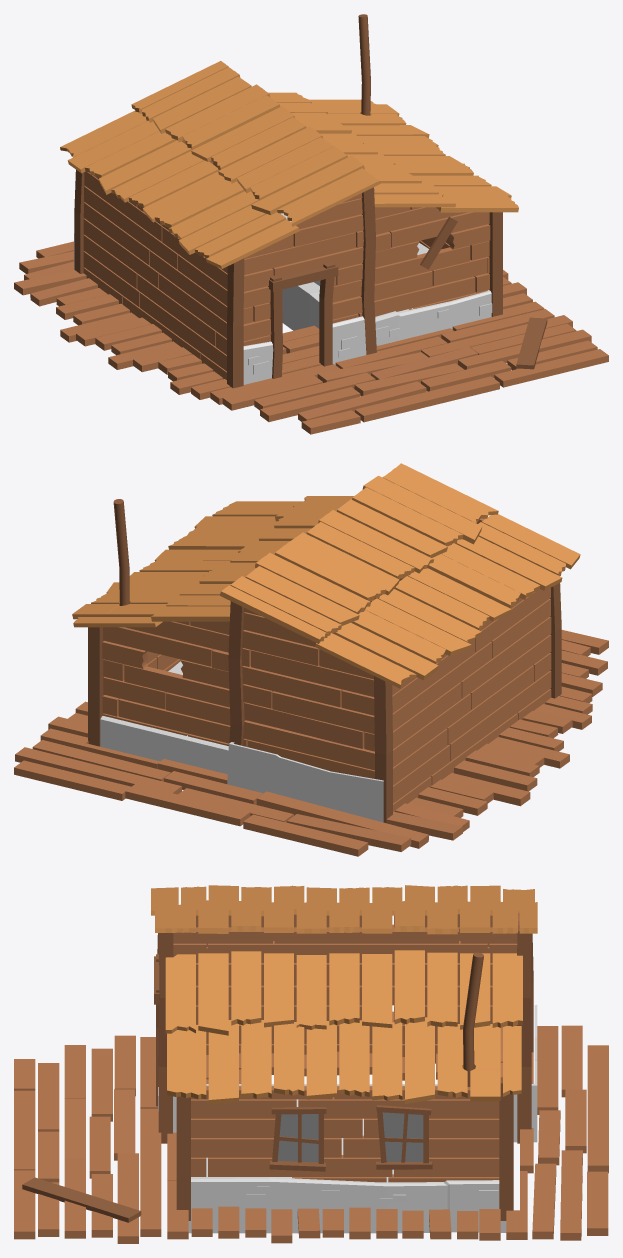
Rendered from House.fbx.
3 renders of one model, top to bottom at view 1: azimuth 30°, elevation 25°; view 2: azimuth 150°, elevation 25°; view 3: azimuth 270°, elevation 25°, orthographic. The views are drawn at different scales.
Parts seen in each view (by area): view 1: House; view 2: House; view 3: House.
Boxes of the visible parts, box(x1,y1,x2,y2) form: House: box(14, 14, 608, 434); House: box(14, 463, 608, 856); House: box(14, 885, 608, 1243).
Bounding box in the file's own units: 515 × 289 × 572.
